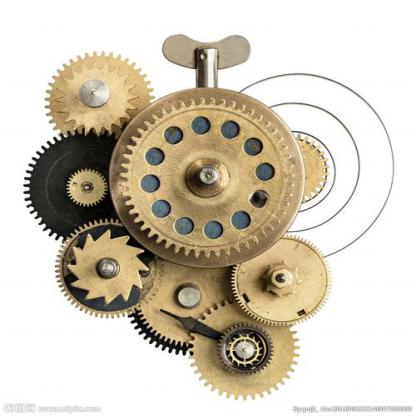FOD: (118, 94, 300, 262), (189, 296, 304, 403), (56, 62, 134, 136)
